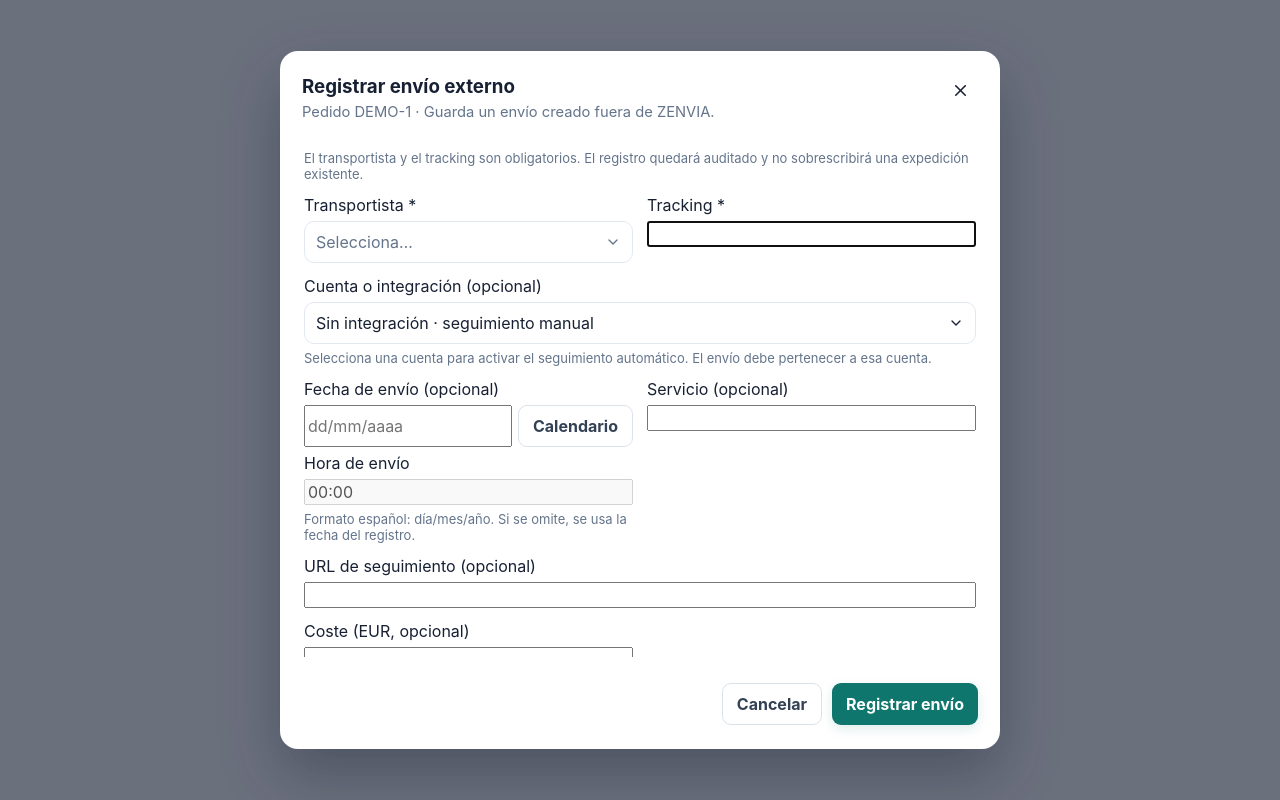
Test: retains the draft on server rejection and prevents duplicate submission
Click the dropdown named "Transportista *": click(364, 242) [304,221,633,263]
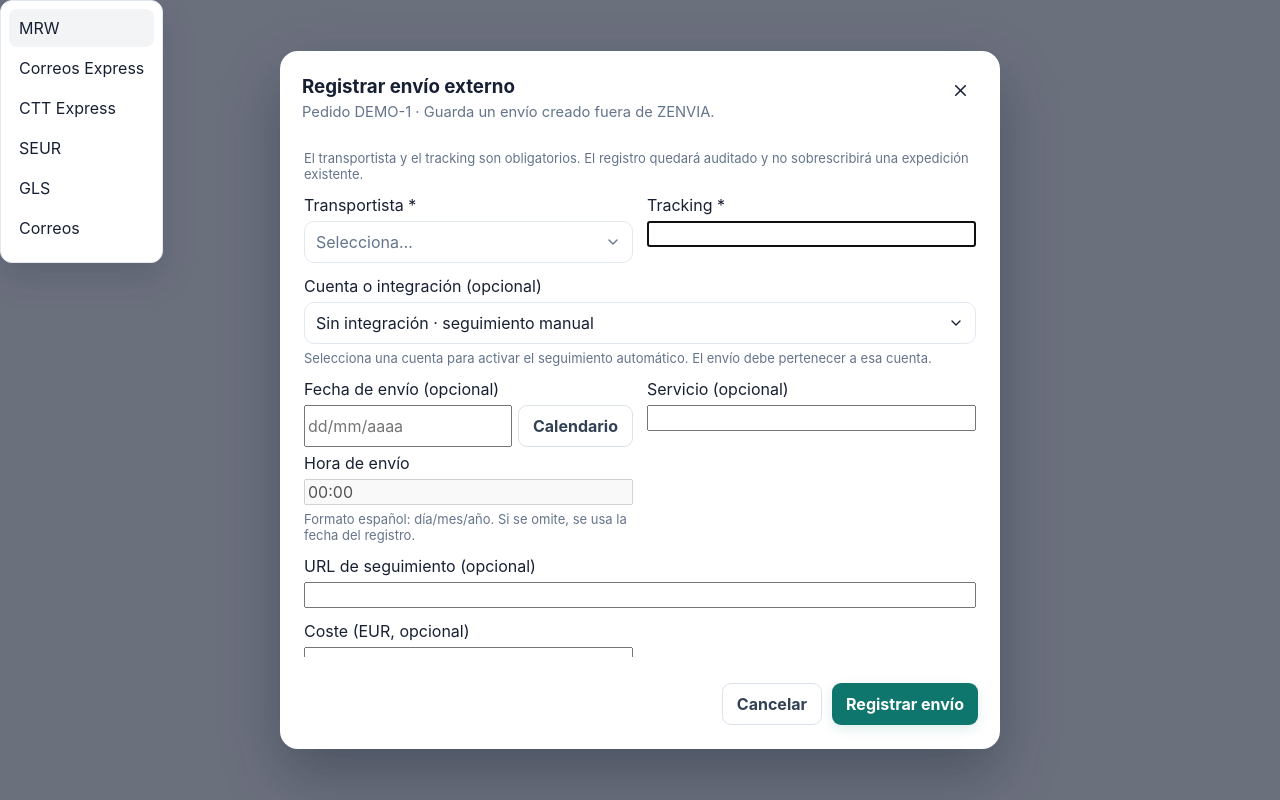
Click the option "MRW": click(82, 28) [9,9,154,47]
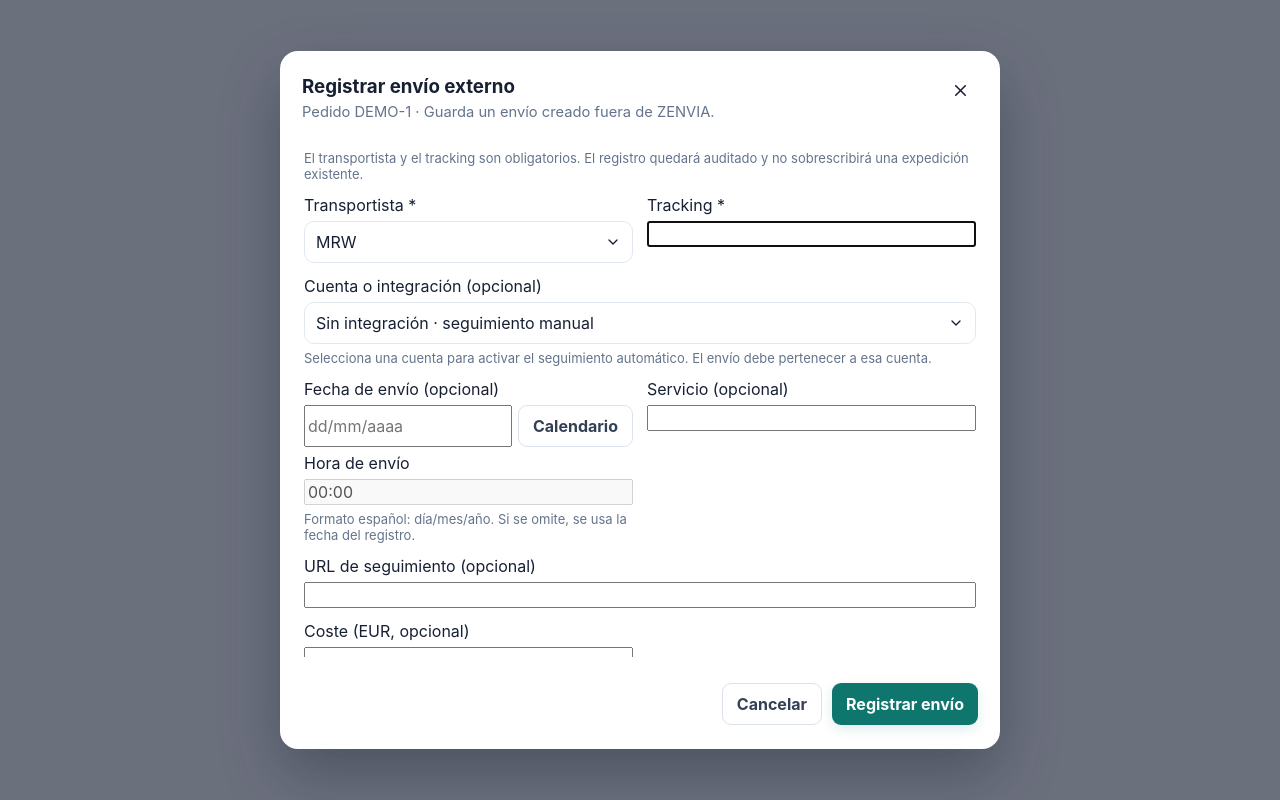
In the field labelled "Tracking *": (812, 234) [647,221,976,247], type "SYNTHETIC"
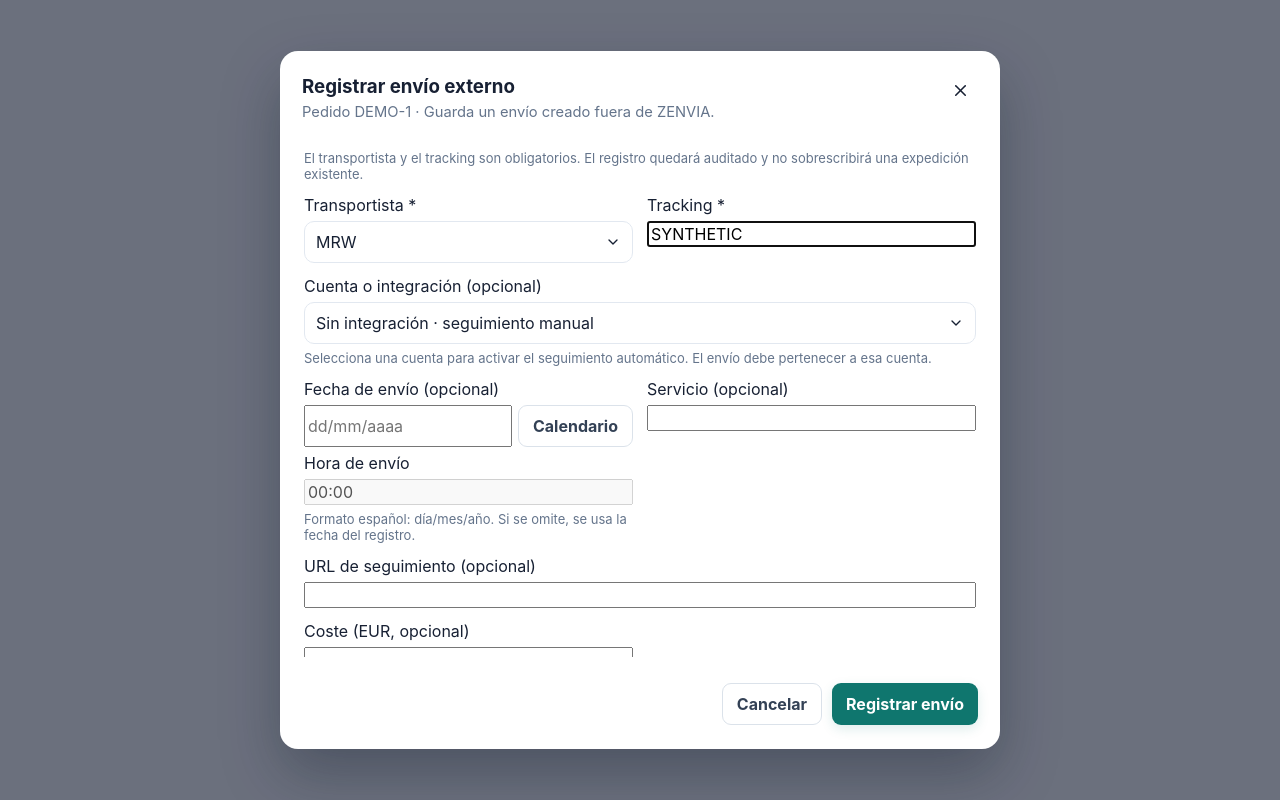
Click the button "Registrar envío": click(905, 704) [832,683,978,725]
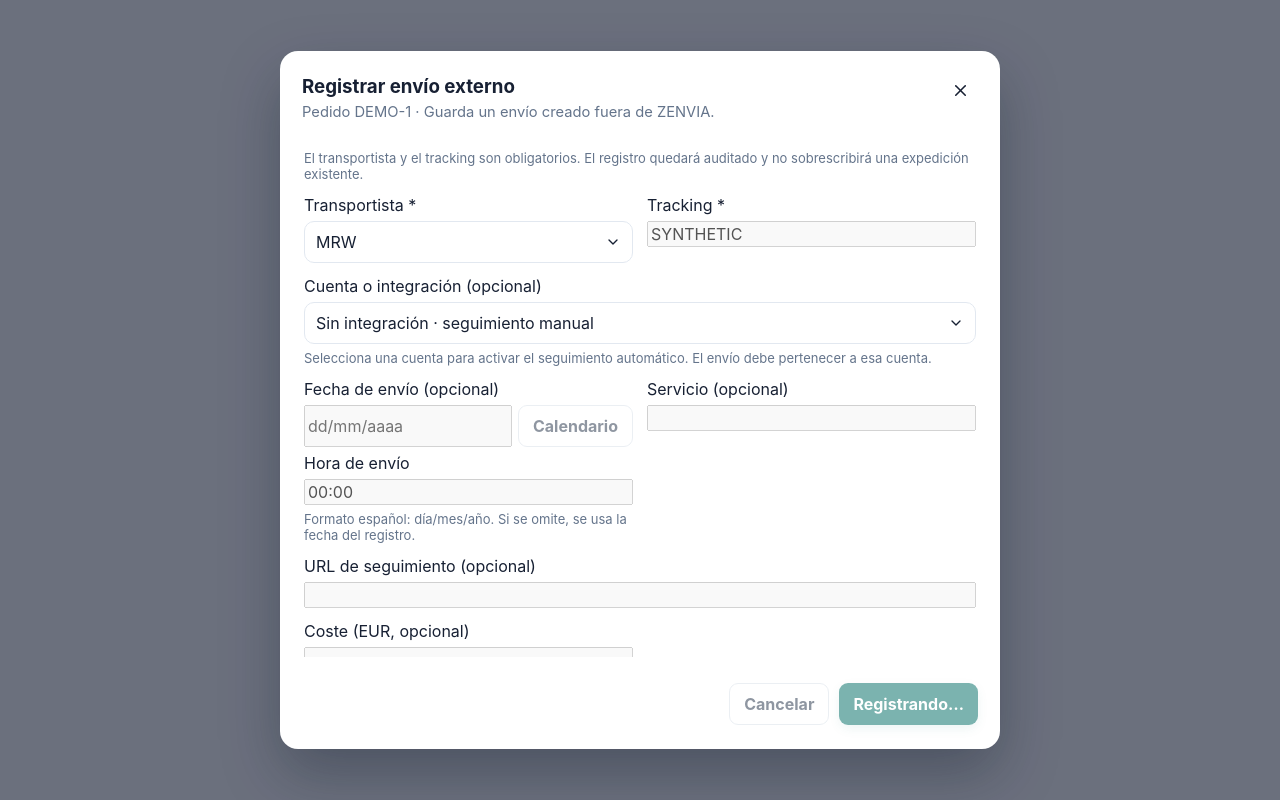
Click the button named "Registrar envío": click(909, 704) [839,683,978,725]
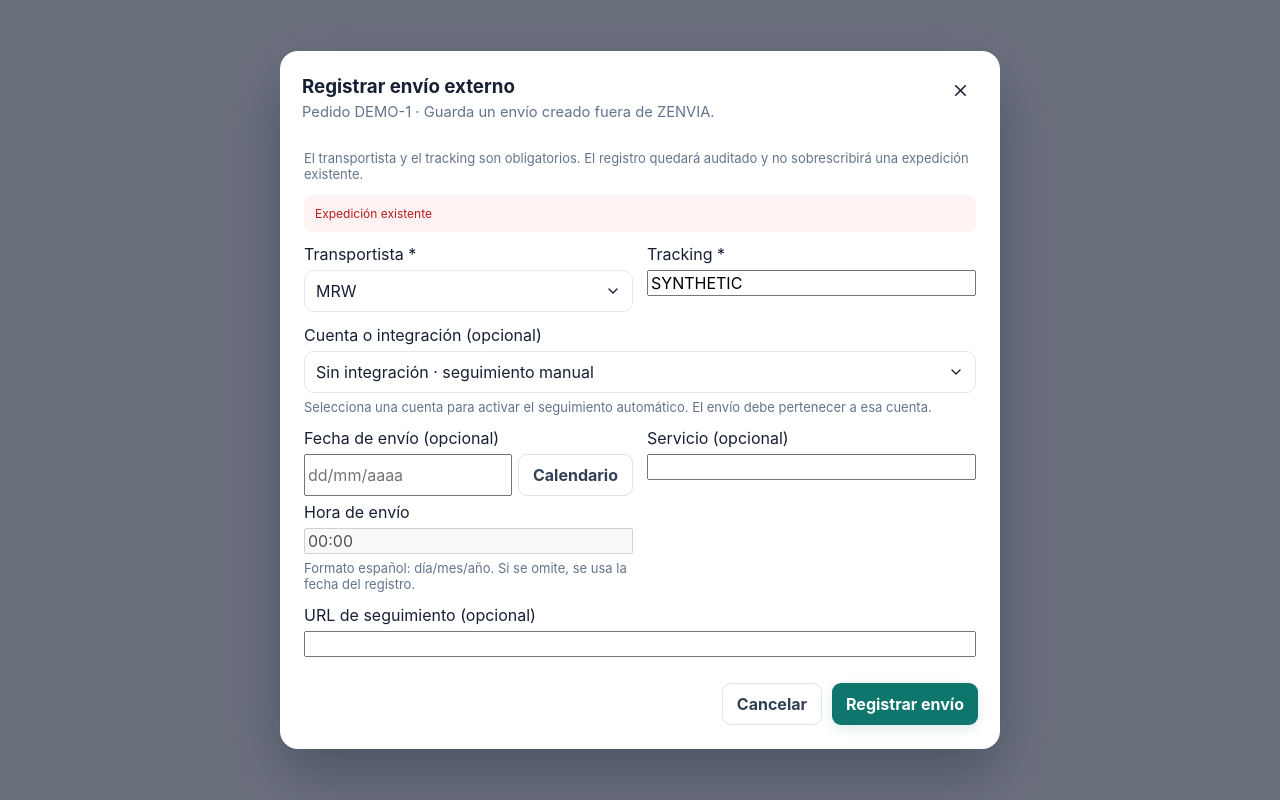
Expected: the text "Expedición existente" is shown, [304,195,976,232]
